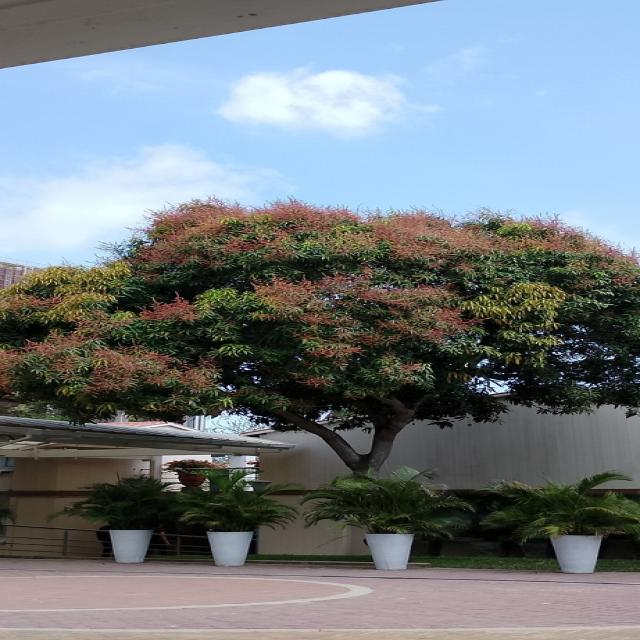Mango-Tree: (22, 206, 638, 471)
